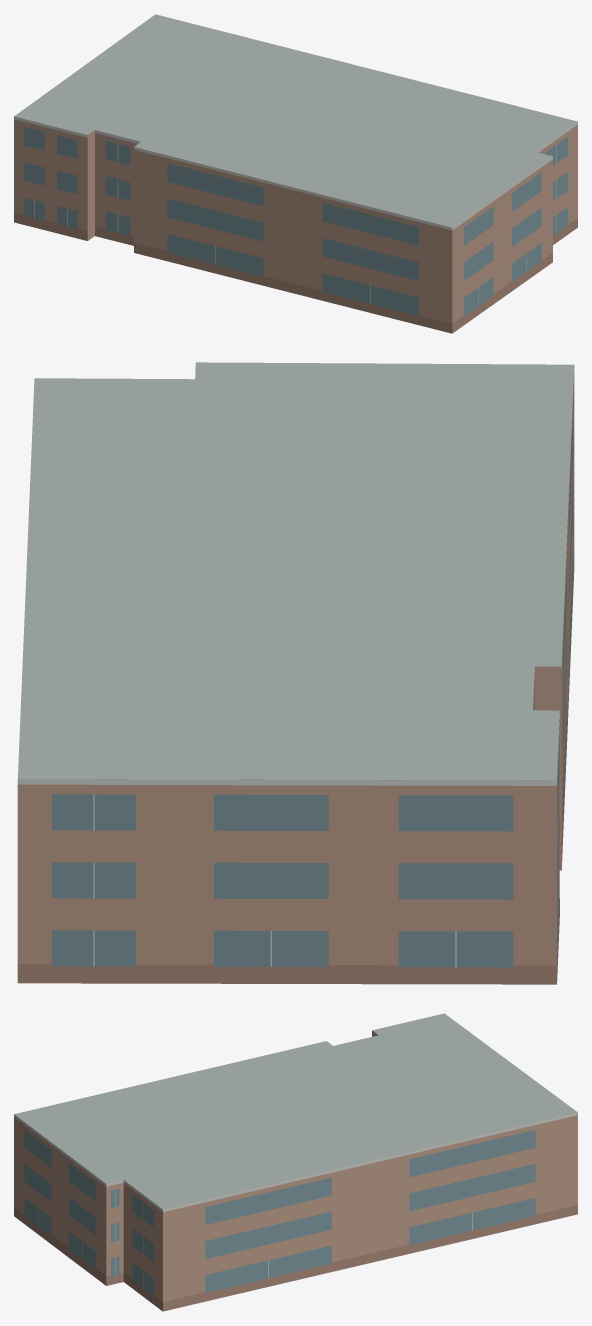
File: survey-upis-33036399.glb
3 renders of one model, top to bottom at view 1: azimuth 30°, elevation 25°; view 2: azimuth 150°, elevation 25°; view 3: azimuth 270°, elevation 25°, orthographic. The views are drawn at different scales.
Visible parts, largest first — view 1: survey-upis-33036399.tmp; view 2: survey-upis-33036399.tmp; view 3: survey-upis-33036399.tmp.
Part boxes in pixels (x1,y1,x2,y2): survey-upis-33036399.tmp: [14, 14, 577, 333]; survey-upis-33036399.tmp: [17, 362, 574, 984]; survey-upis-33036399.tmp: [14, 1013, 577, 1311].
Size of the model in its own units: 37.74 by 9.15 by 45.84.
